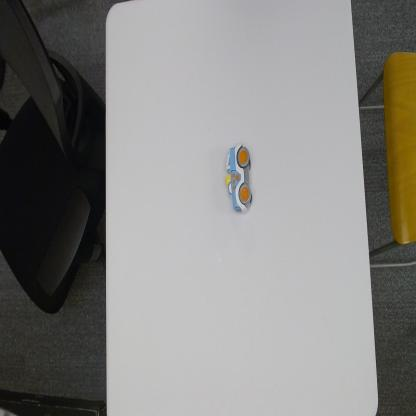Car: (225, 140, 254, 217)
